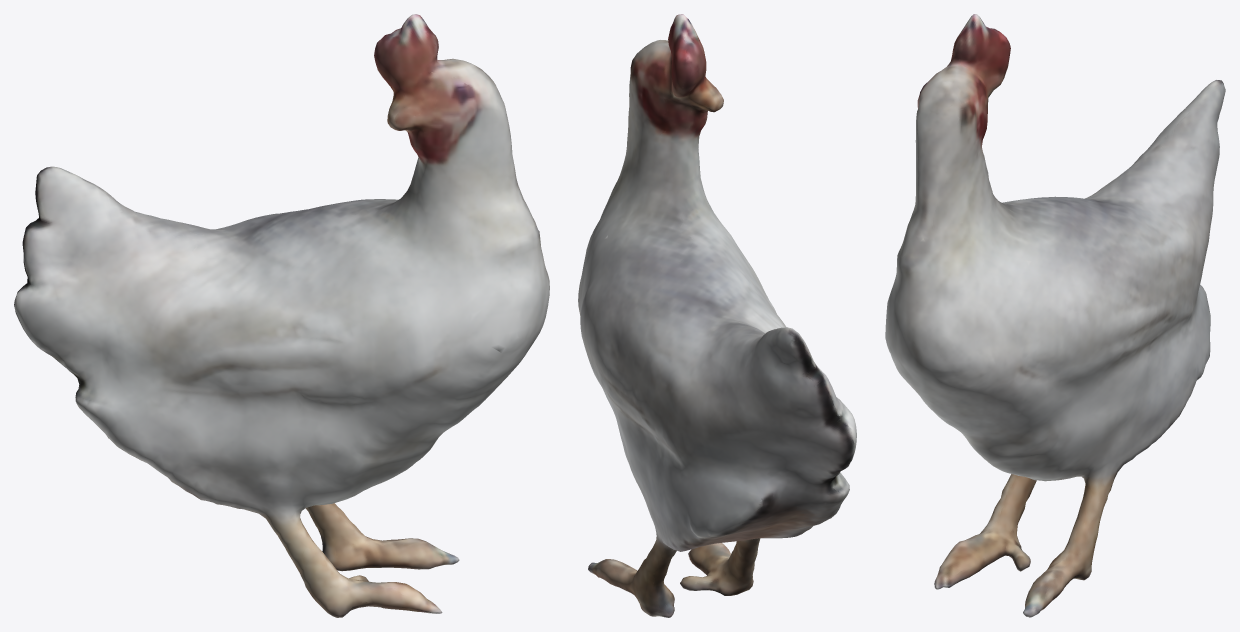
Rendered from joven.glb.
The picture shows the model from 3 angles, left to right: view 1: azimuth 30°, elevation 25°; view 2: azimuth 150°, elevation 25°; view 3: azimuth 270°, elevation 25°; orthographic projection. The views are drawn at different scales.
Visible parts, largest first — view 1: mesh; view 2: mesh; view 3: mesh.
Boxes of the visible parts, x1,y1,x2,y2 form: mesh: (14,14,549,617); mesh: (578,14,856,617); mesh: (885,14,1225,617).
Size of the model in its own units: 1.24 by 1.75 by 0.9414.
Materials: 1 (1 with a texture image).
